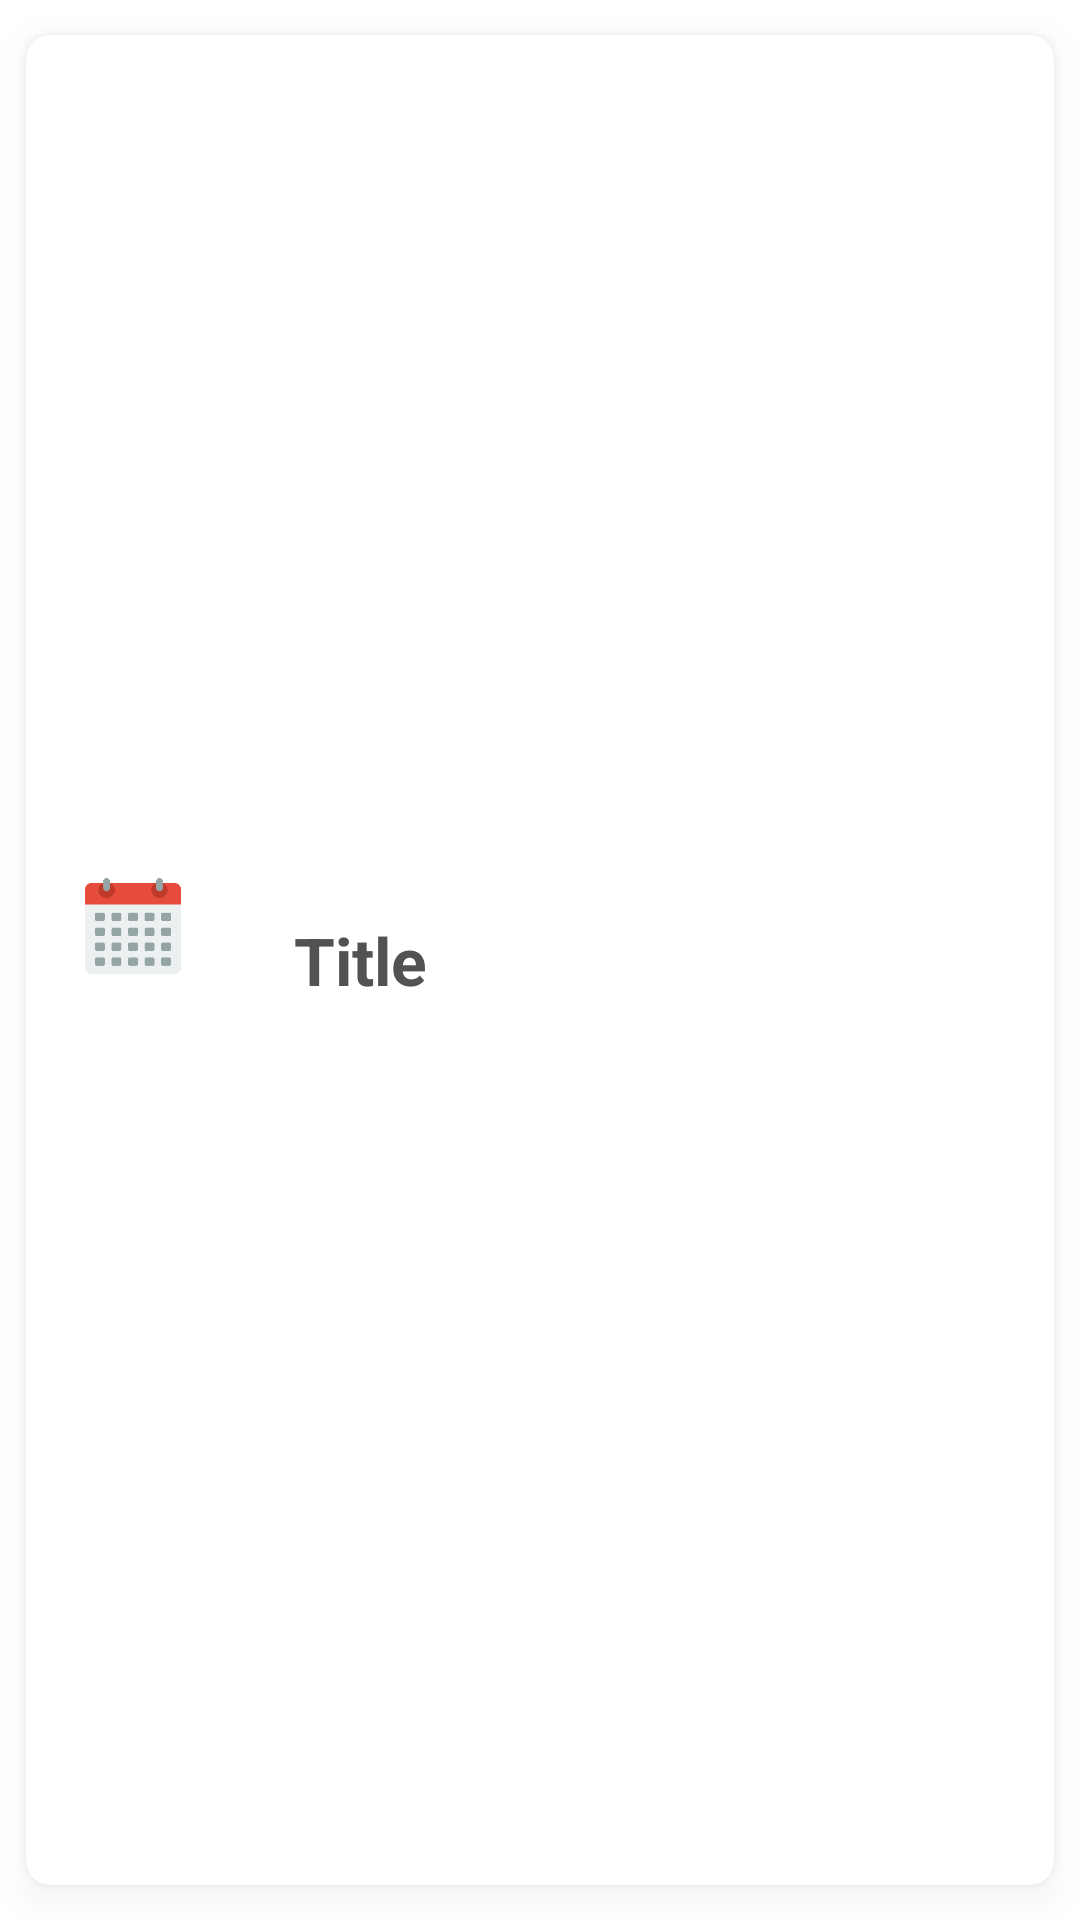

Screen size 1080 x 1920. Icon name, then its box in pixels as (x1, y1, x2, y2):
calendar: (85, 878, 181, 974)
